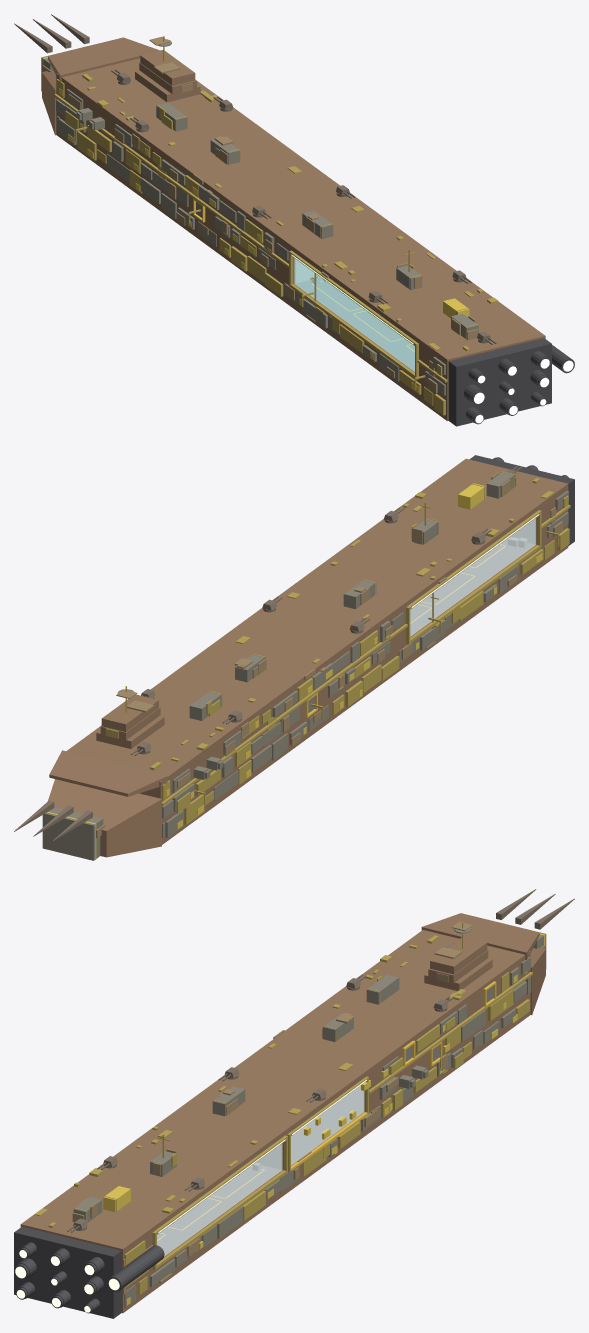
File: ship_LARGE_v1.glb
The picture shows the model from 3 angles, top to bottom: view 1: azimuth 30°, elevation 25°; view 2: azimuth 150°, elevation 25°; view 3: azimuth 330°, elevation 25°; orthographic projection. The views are drawn at different scales.
Parts seen in each view (by area): view 1: LARGE_Hull-col, LARGE_Armor, LARGE_Trim, LARGE_Engines, LARGE_HangarShield_Port, LARGE_ScrapPlates, LARGE_Decks-col, LARGE_Details, LARGE_Accent, LARGE_ScrapTrim, LARGE_RamSpikes, LARGE_EngineGlow; view 2: LARGE_Hull-col, LARGE_Armor, LARGE_Trim, LARGE_HangarShield_Port, LARGE_ScrapPlates, LARGE_Decks-col, LARGE_Accent, LARGE_Engines, LARGE_Details, LARGE_ScrapTrim, LARGE_RamSpikes; view 3: LARGE_Hull-col, LARGE_Engines, LARGE_Armor, LARGE_Trim, LARGE_HangarShield_Starboard, LARGE_Decks-col, LARGE_CargoBayShield, LARGE_ScrapPlates, LARGE_CargoBayDoor-col, LARGE_Accent, LARGE_Details, LARGE_Hazard (+3 smaller).
Part boxes in pixels (x1,y1,x2,y2): LARGE_Hull-col: [42, 37, 545, 420]; LARGE_Armor: [41, 39, 478, 395]; LARGE_Trim: [54, 36, 477, 415]; LARGE_Engines: [448, 338, 574, 426]; LARGE_HangarShield_Port: [294, 258, 414, 371]; LARGE_ScrapPlates: [42, 36, 478, 393]; LARGE_Decks-col: [296, 277, 414, 370]; LARGE_Details: [82, 74, 498, 351]; LARGE_Accent: [42, 57, 469, 392]; LARGE_ScrapTrim: [65, 107, 442, 375]; LARGE_RamSpikes: [14, 14, 89, 53]; LARGE_EngineGlow: [474, 359, 573, 423]; LARGE_Hull-col: [48, 458, 568, 857]; LARGE_Armor: [42, 471, 568, 860]; LARGE_Trim: [125, 471, 570, 824]; LARGE_HangarShield_Port: [410, 518, 535, 636]; LARGE_ScrapPlates: [96, 472, 563, 838]; LARGE_Decks-col: [410, 538, 534, 635]; LARGE_Accent: [46, 483, 542, 859]; LARGE_Engines: [469, 455, 574, 545]; LARGE_Details: [150, 478, 554, 770]; LARGE_ScrapTrim: [105, 495, 568, 813]; LARGE_RamSpikes: [14, 801, 92, 841]; LARGE_Hull-col: [20, 913, 545, 1313]; LARGE_Engines: [14, 1226, 164, 1318]; LARGE_Armor: [73, 928, 546, 1307]; LARGE_Trim: [74, 922, 532, 1294]; LARGE_HangarShield_Starboard: [157, 1143, 282, 1256]; LARGE_Decks-col: [157, 1165, 280, 1254]; LARGE_CargoBayShield: [291, 1085, 364, 1165]; LARGE_ScrapPlates: [72, 921, 545, 1294]; LARGE_CargoBayDoor-col: [291, 1086, 363, 1164]; LARGE_Accent: [103, 933, 545, 1305]; LARGE_Details: [34, 935, 465, 1227]; LARGE_Hazard: [157, 981, 496, 1240].
Bounding box in the file's own units: 27.7 × 25.06 × 185.
